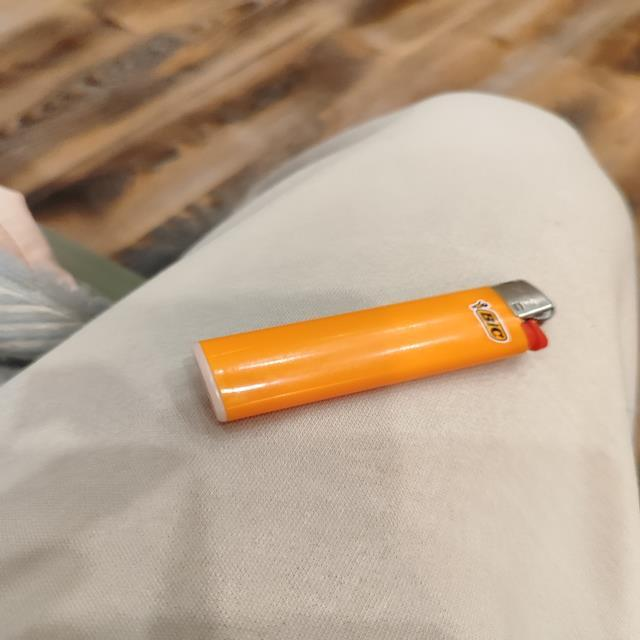lighter: (196, 281, 554, 422)
